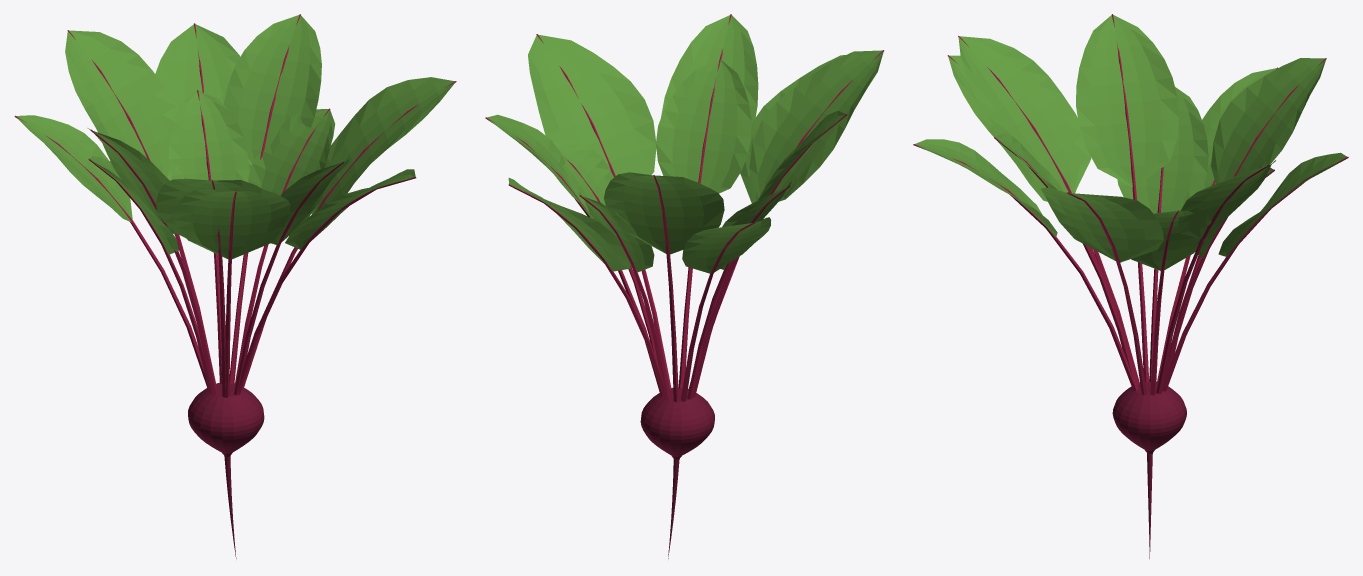
Rendered from beetroot_harvest_v02.glb.
3 renders of one model, left to right at view 1: azimuth 30°, elevation 25°; view 2: azimuth 150°, elevation 25°; view 3: azimuth 270°, elevation 25°, orthographic. The views are drawn at different scales.
Parts seen in each view (by area): view 1: plant; view 2: plant; view 3: plant.
Part boxes in pixels (x1,y1,x2,y2): plant: [14, 14, 456, 558]; plant: [485, 14, 884, 558]; plant: [913, 14, 1348, 558].
Size of the model in its own units: 0.4029 by 0.5466 by 0.4586.
1 material, 1 textured.
